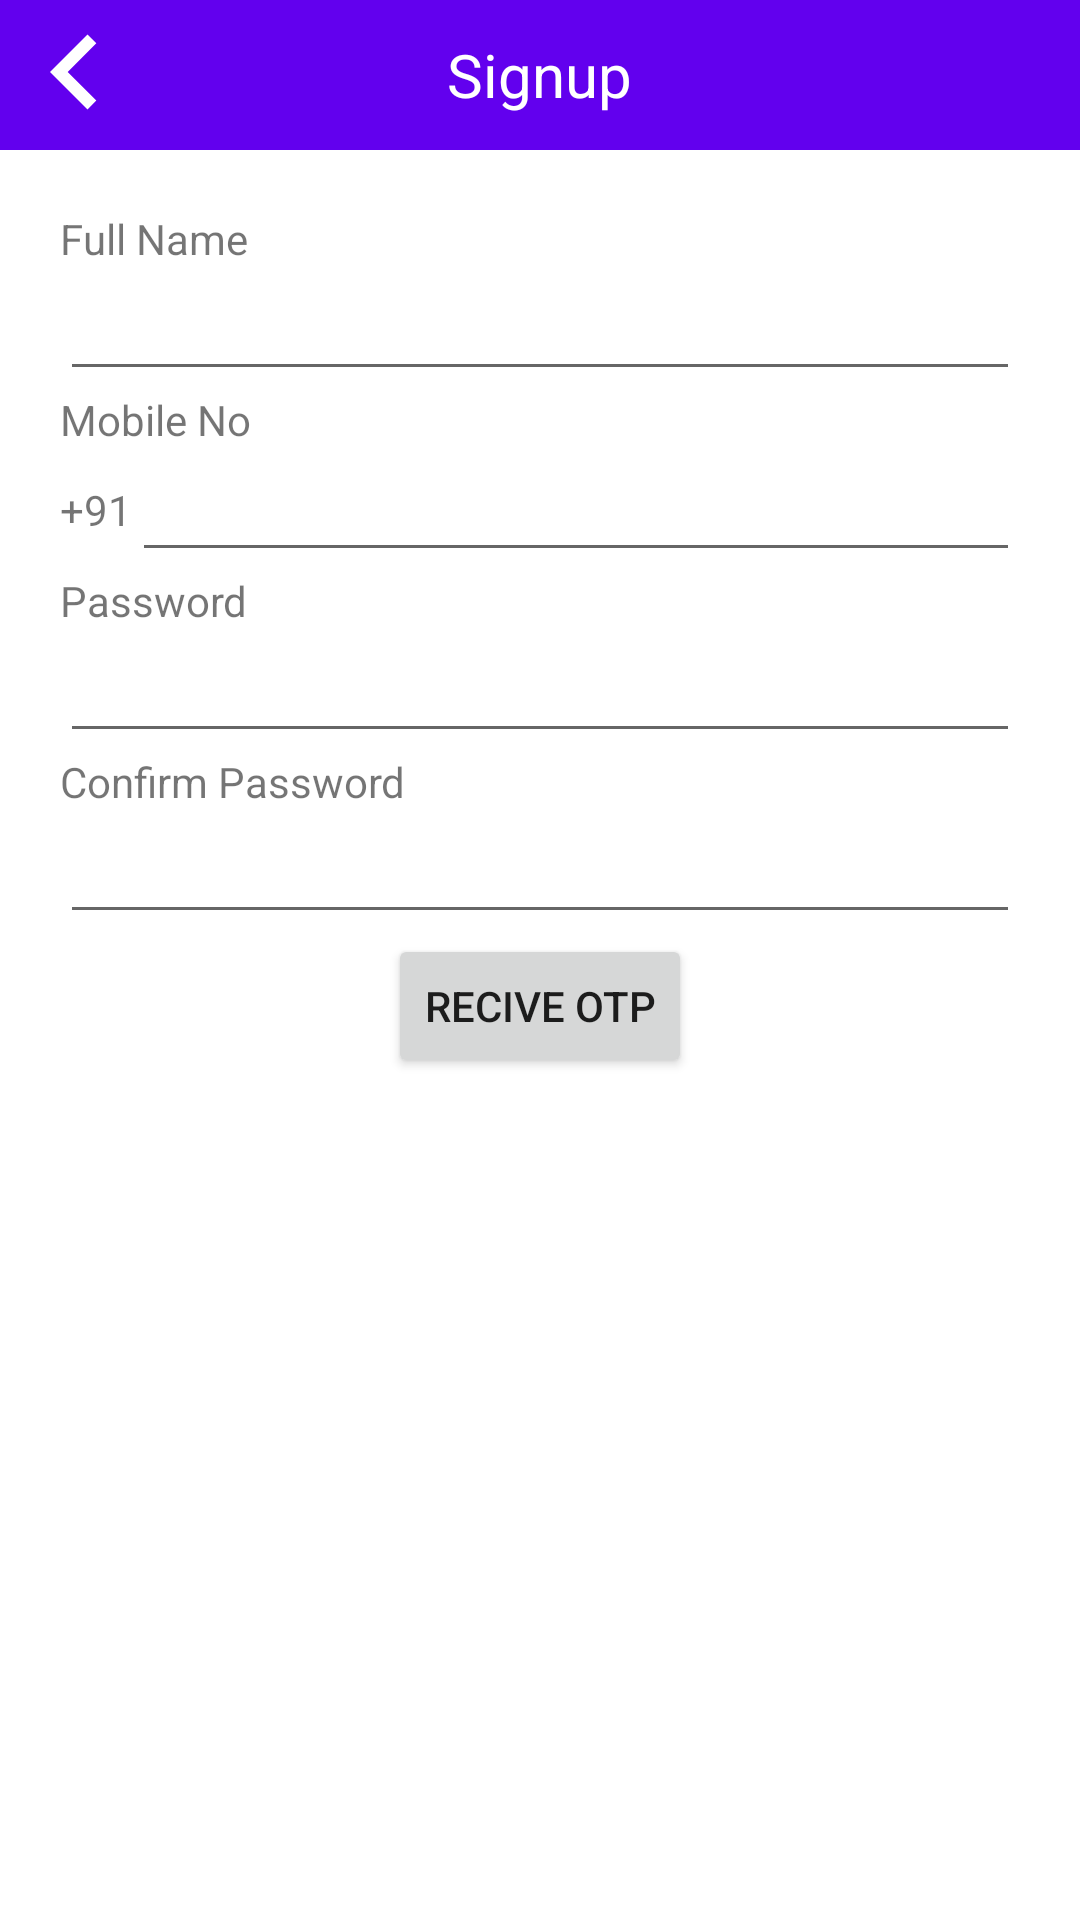

Icons on this 1080×1920 Android screen, each with the point to tap as (x,y):
back: (73,72)
